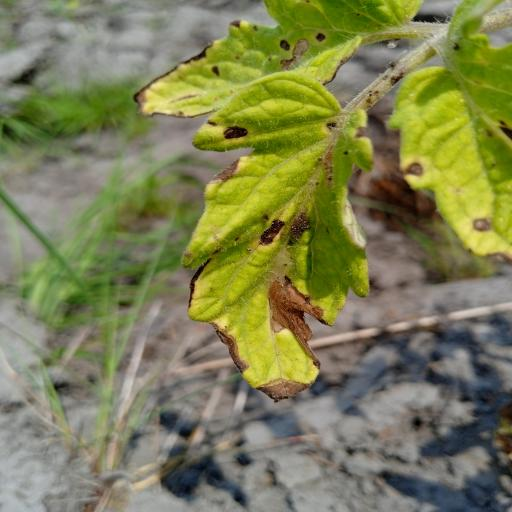Tomato_Brown_Spots: (178, 69, 379, 403), (132, 0, 422, 120), (385, 11, 512, 265)
